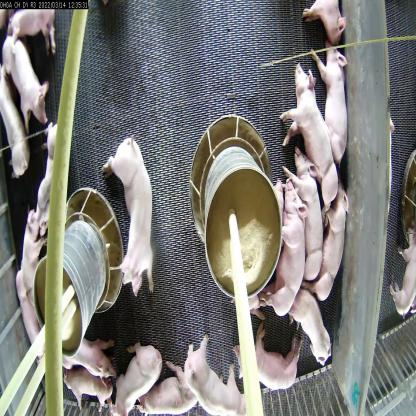Pig: (272, 47, 338, 192), (101, 121, 157, 286), (260, 159, 300, 311), (179, 342, 260, 415), (272, 277, 334, 371), (226, 319, 308, 389), (8, 194, 52, 321), (98, 342, 172, 415), (313, 178, 350, 314), (0, 34, 44, 139), (45, 123, 82, 240), (294, 153, 326, 280), (316, 36, 350, 154), (64, 333, 122, 398), (142, 384, 202, 416)
